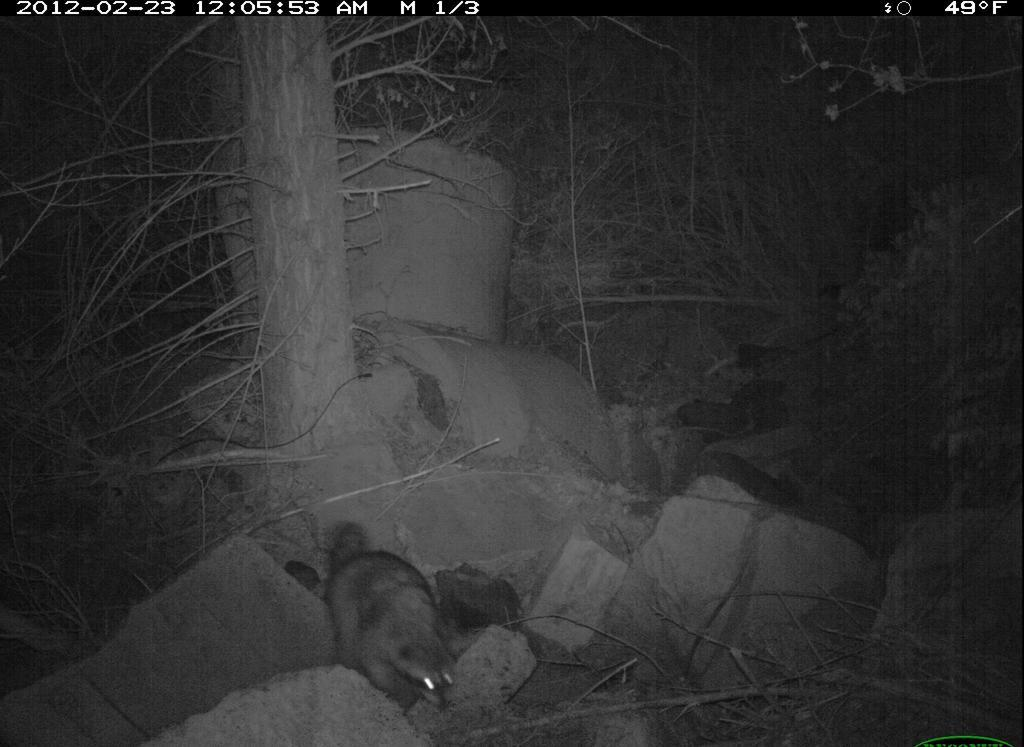raccoon: (313, 514, 470, 720)
